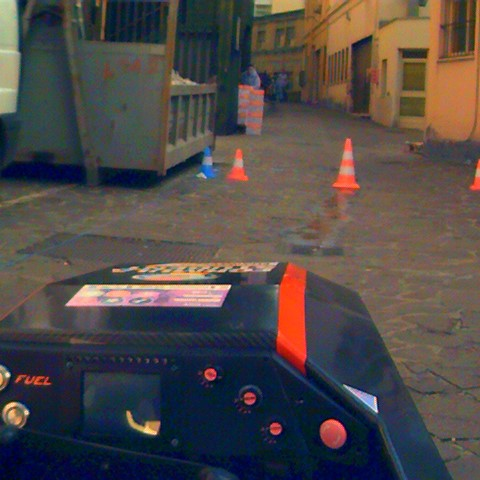cone: (194, 147, 216, 179)
